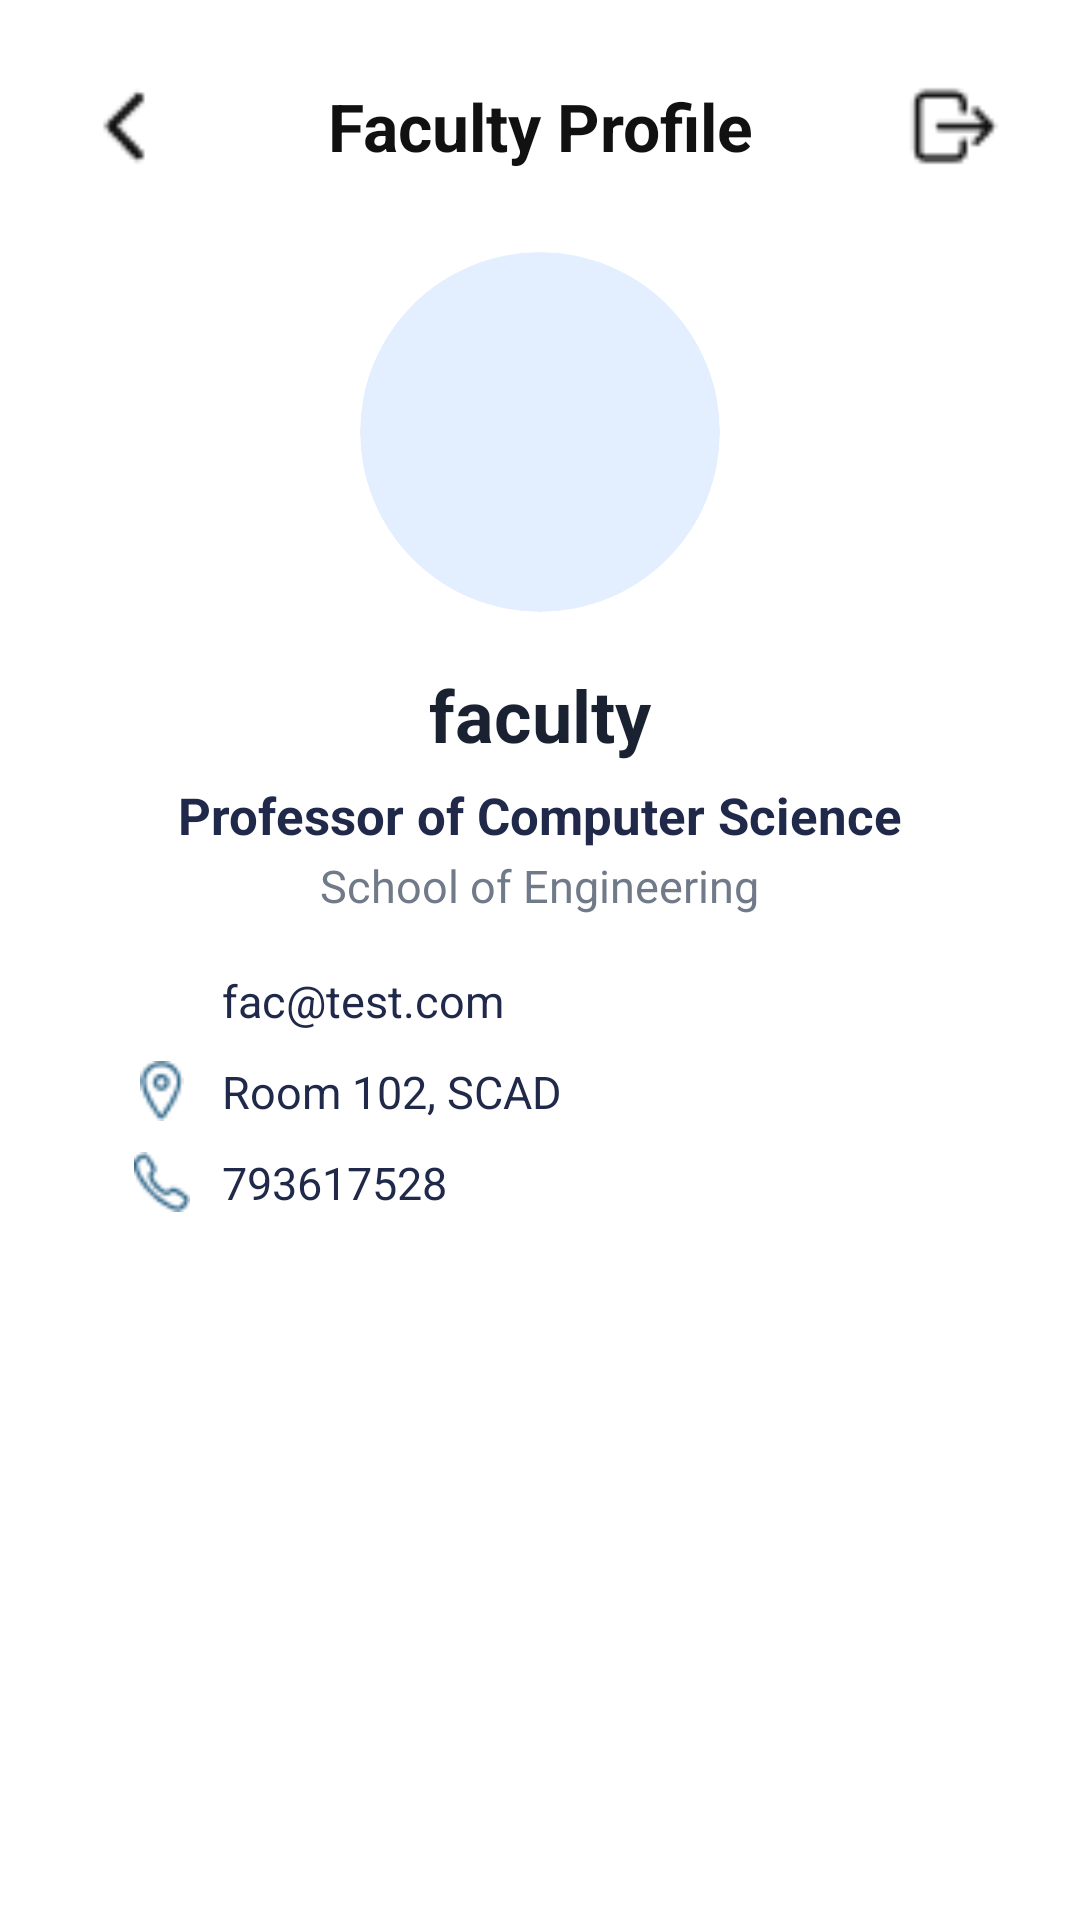

Named icons in this screenshot (1080px×1920px) and their bounding boxes, (x1, y1, x2, y2):
Back: (103, 92, 145, 162)
Location: (140, 1061, 184, 1121)
Phone: (134, 1152, 190, 1212)
